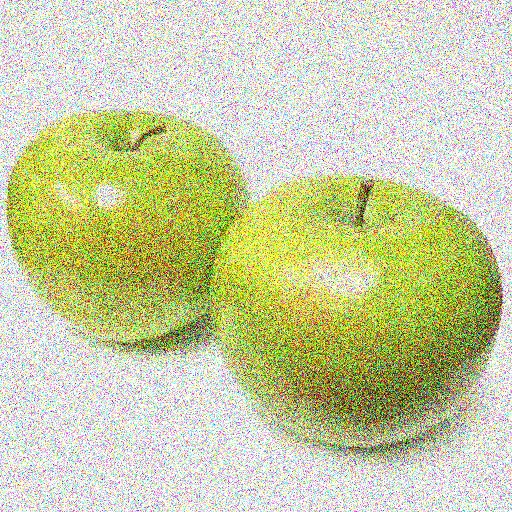fruit: (83, 96, 380, 346), (475, 171, 504, 512)
